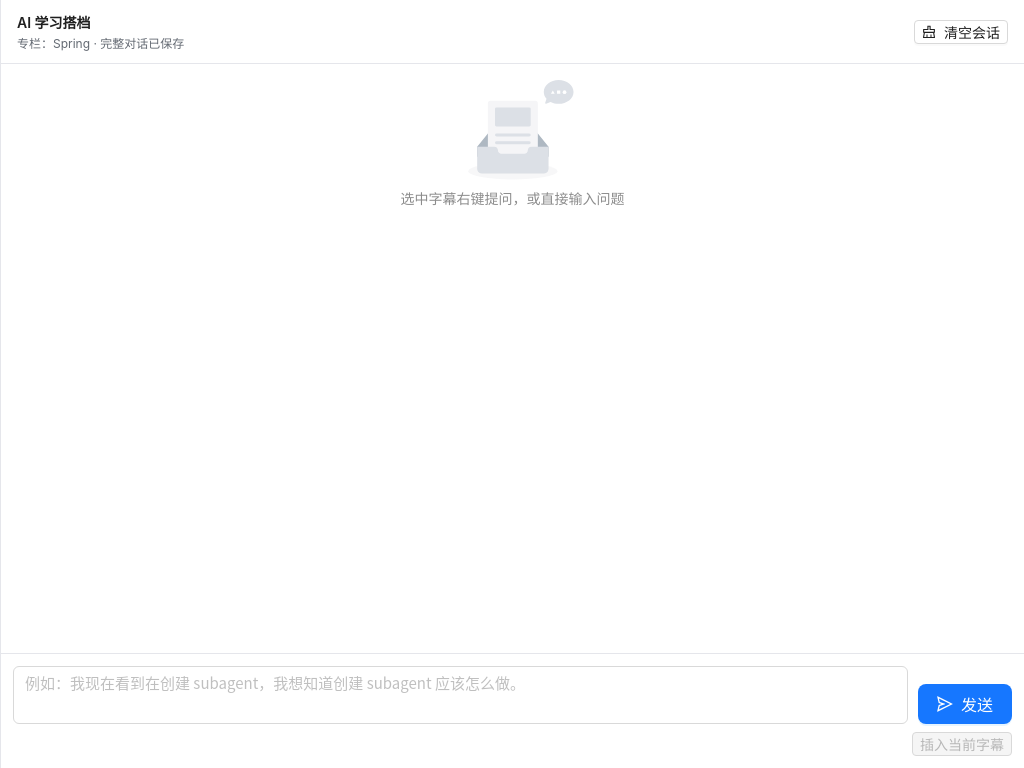
Test: AI 侧栏模型降级 › 全链失败时不会把失败模型显示为当前模型
The width and height of the screenshot is (1024, 768).
expect the button "发送" is enabled: met, box [918,684,1012,724]
In the text box: {"x": 460, "y": 695} [13,666,908,724], type "问题"
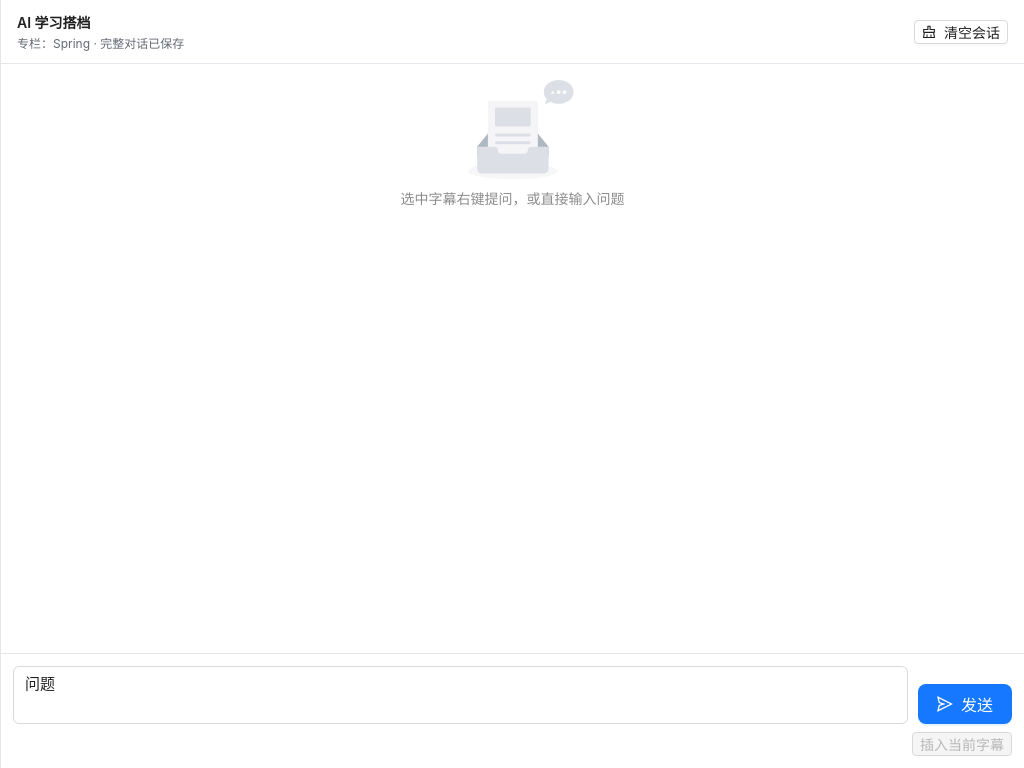
Click the button "发送": {"x": 965, "y": 704} [918,684,1012,724]
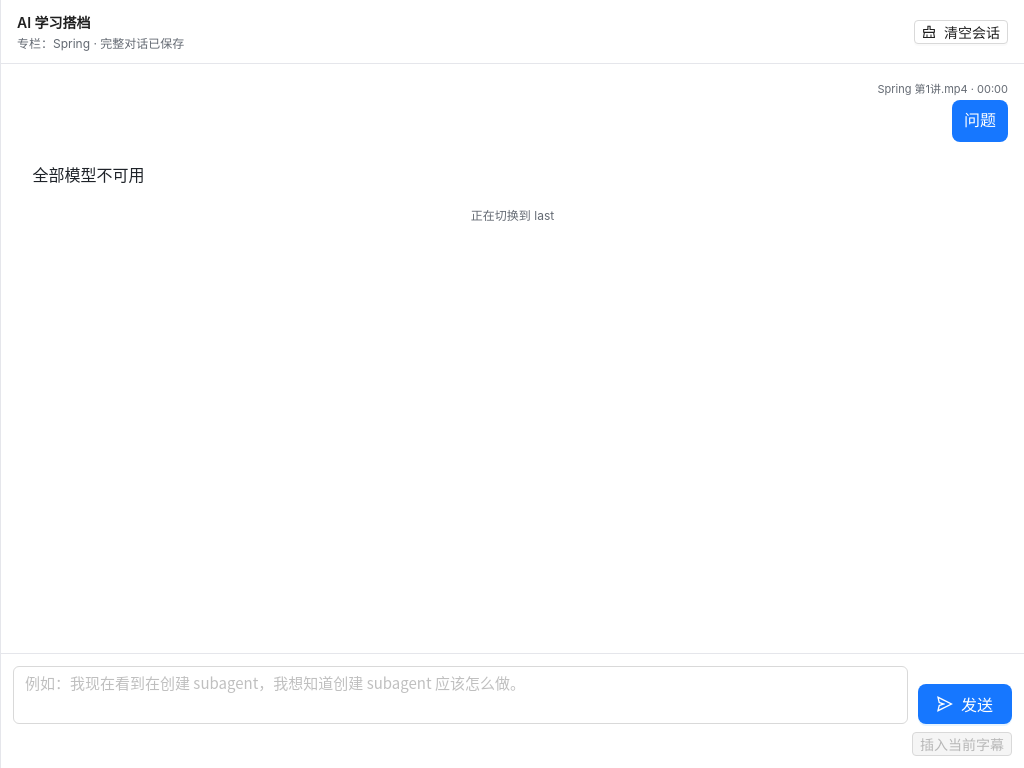
expect the text "全部模型不可用" is shown: met, box [32,162,144,186]
